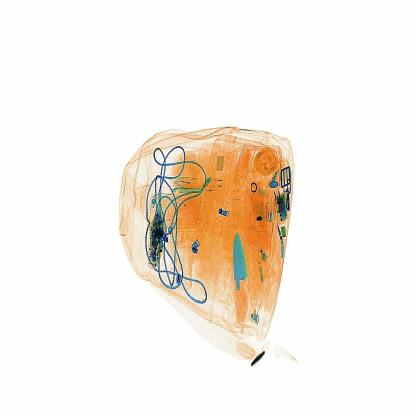wrench: (227, 231, 253, 324)
